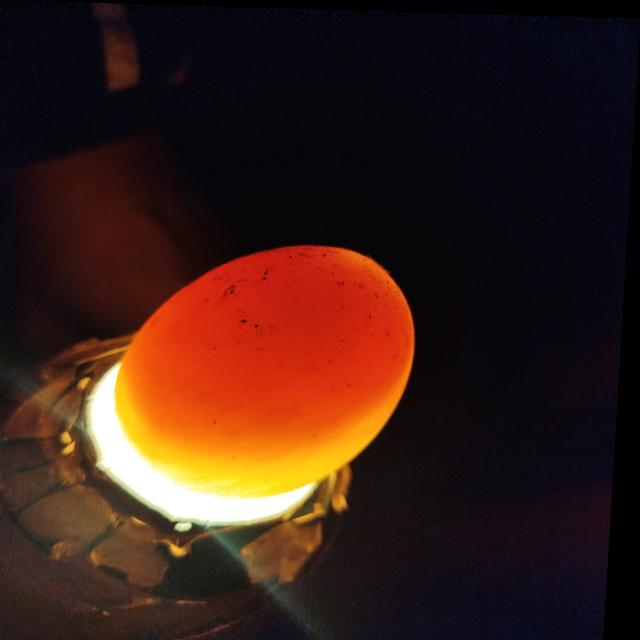Gema Quebrada: (135, 244, 417, 457)
